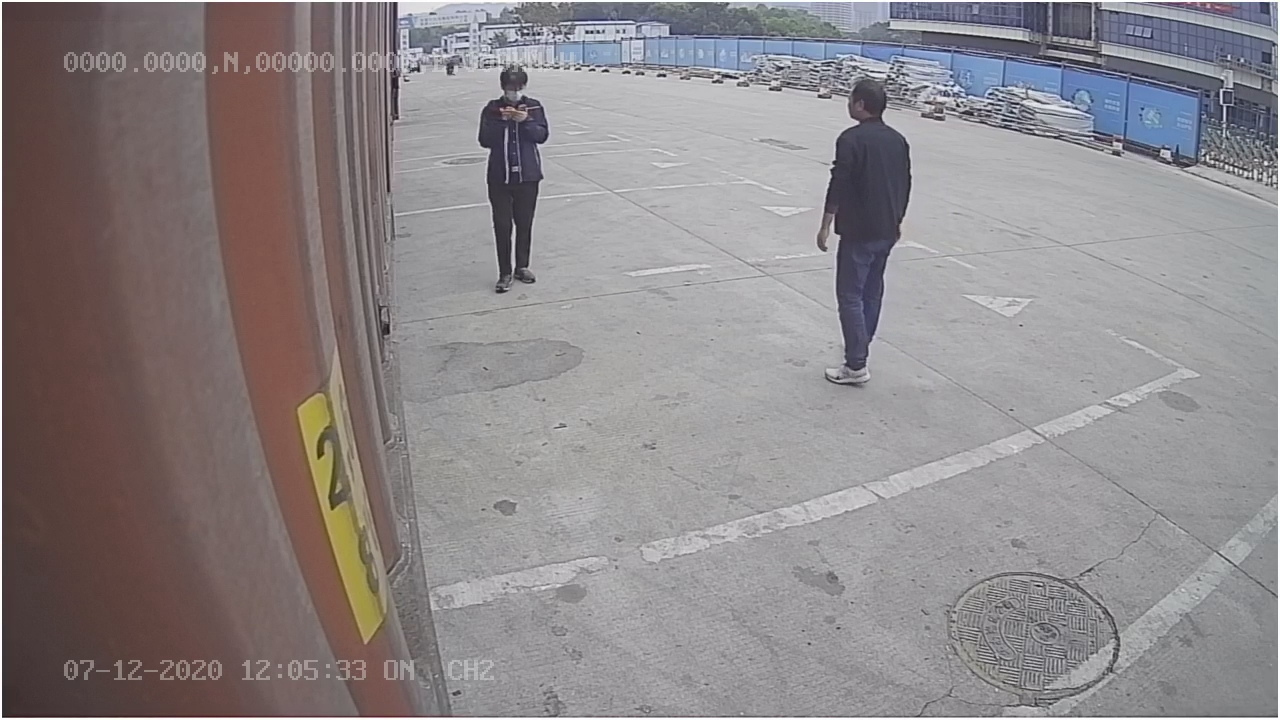person: (814, 73, 913, 383)
